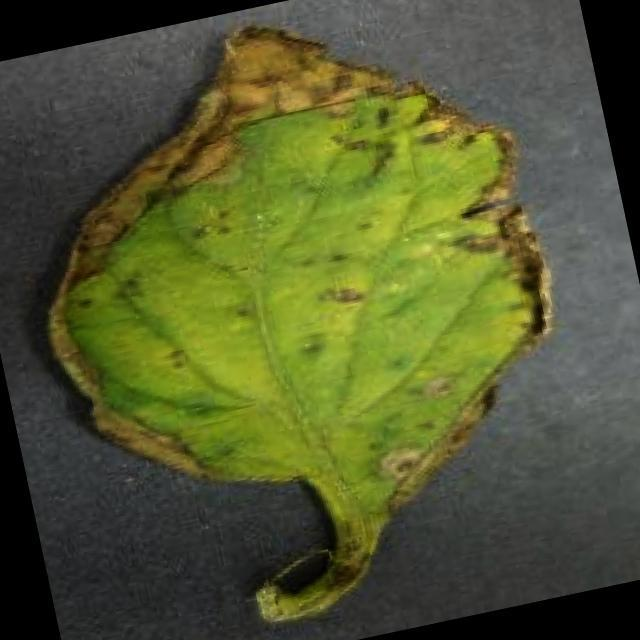Tomato bacterial spot leaf: (0, 0, 593, 581)
